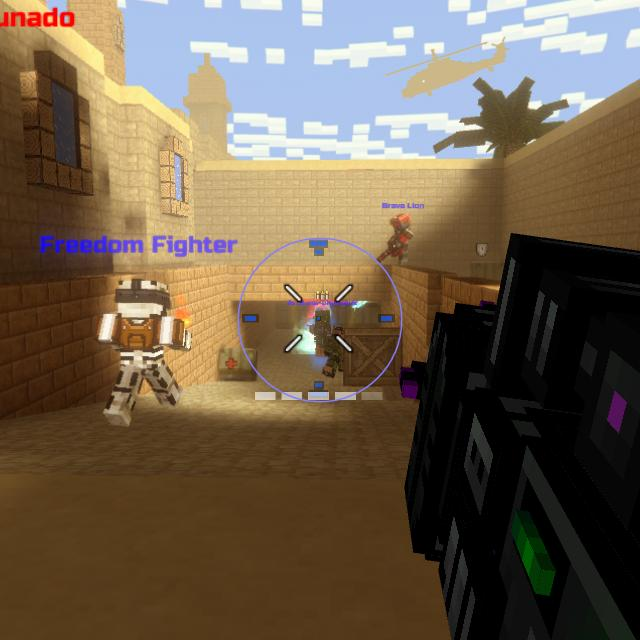Enemy: (309, 307, 323, 324)
